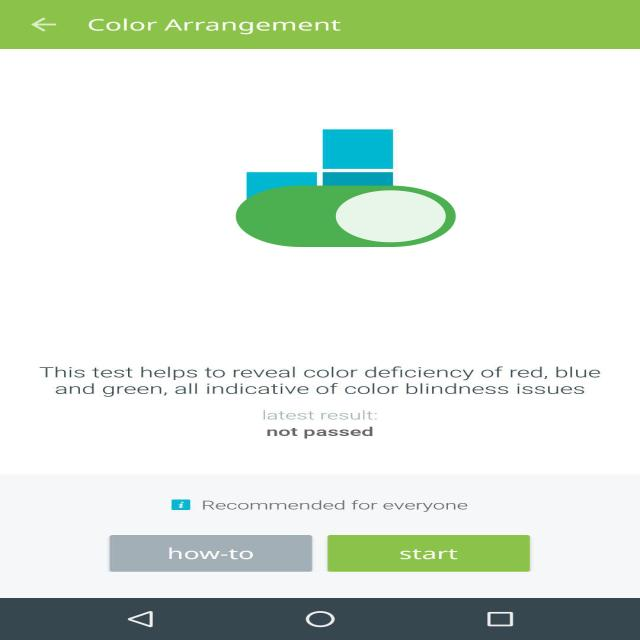social proof: (226, 162, 466, 275)
